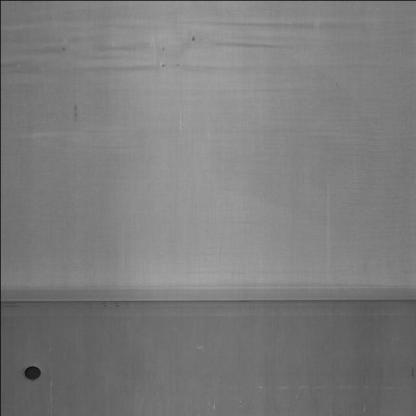punching_hole: (17, 356, 43, 390)
welding_line: (0, 285, 414, 325)
